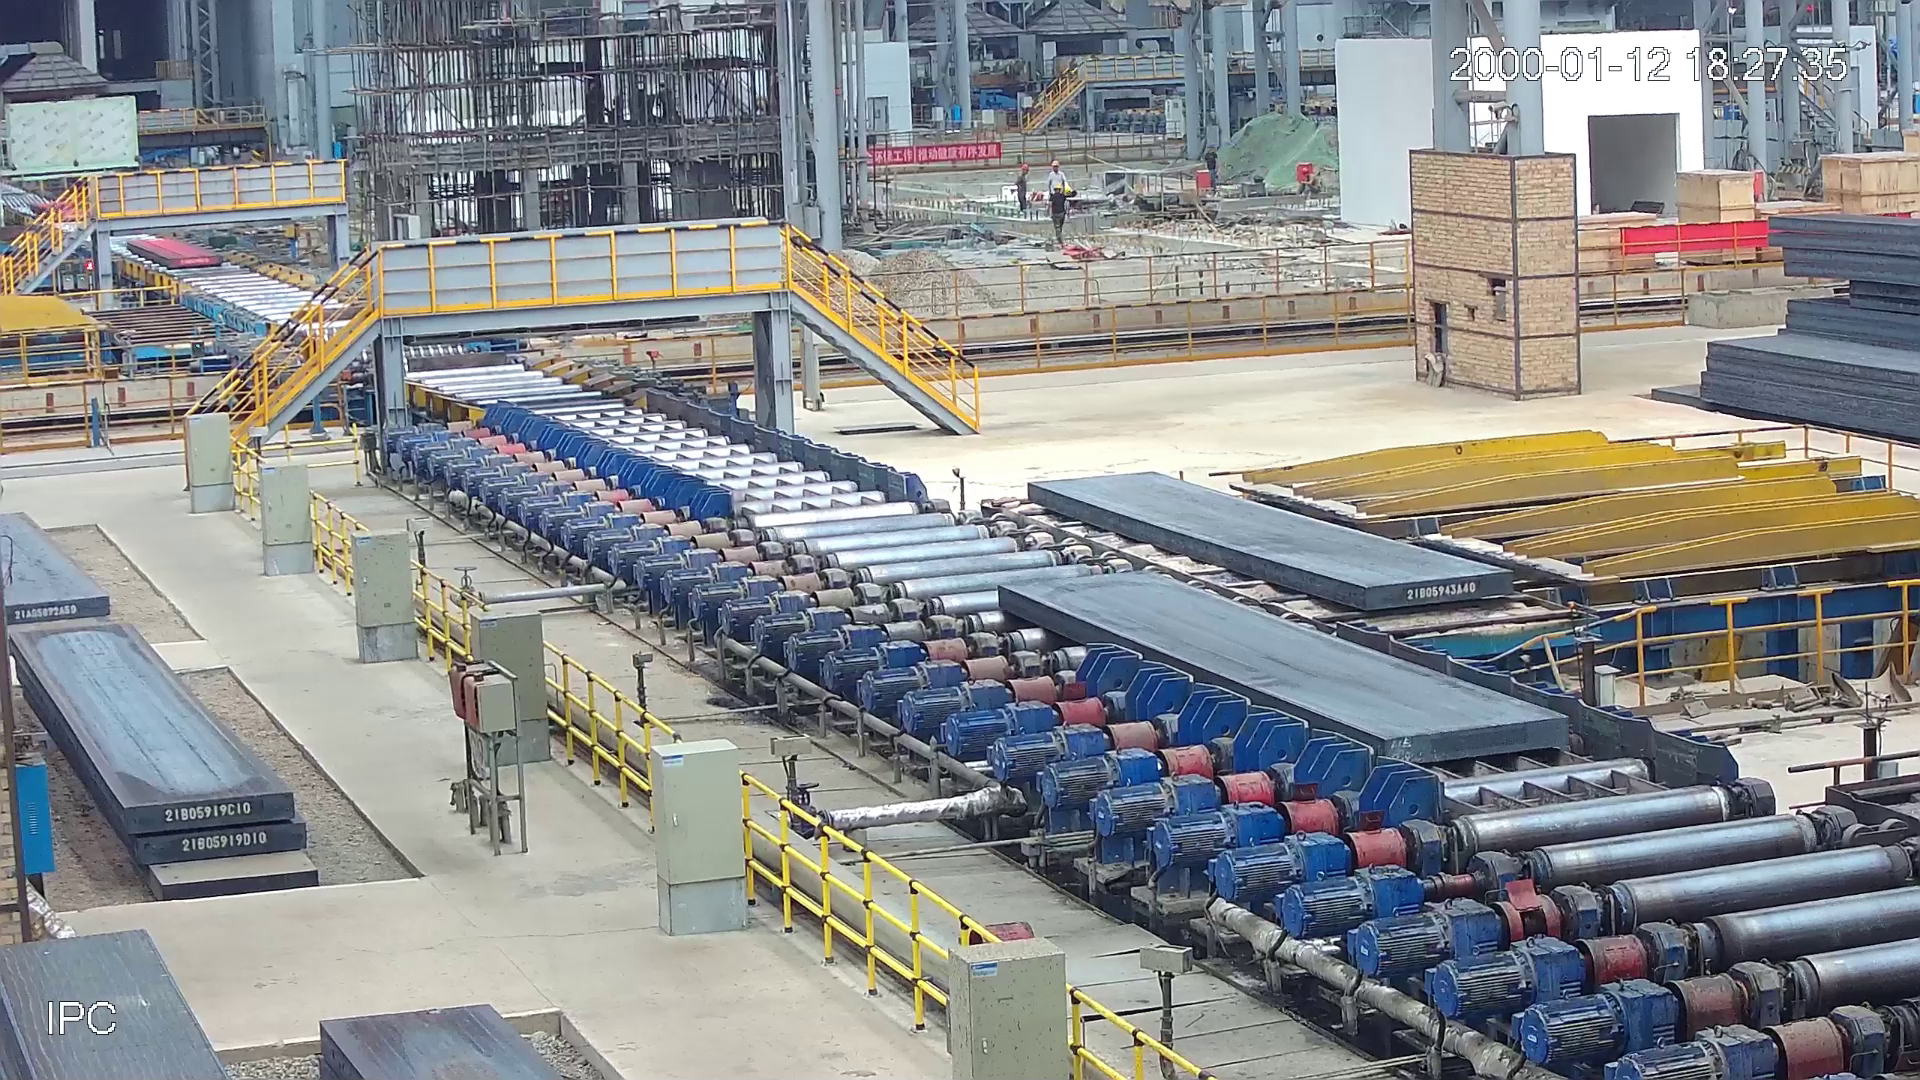slab: (989, 570, 1577, 767), (1018, 460, 1528, 617), (127, 236, 225, 272)
